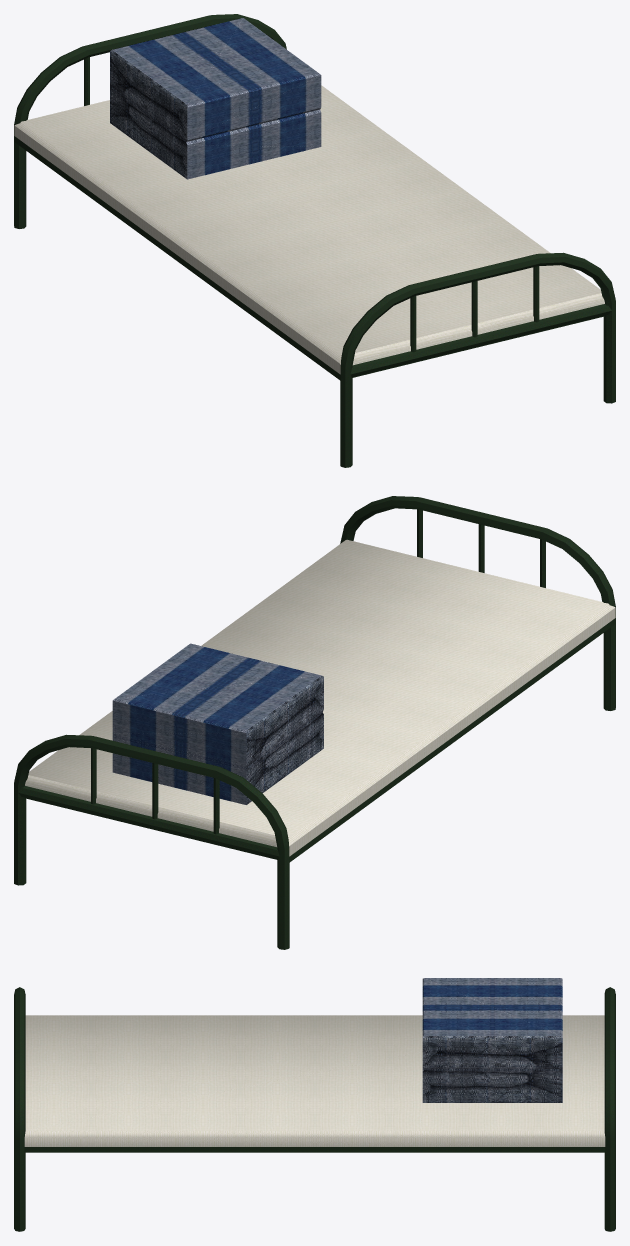
The model's file is bed_T01702.obj.
The picture shows the model from 3 angles, top to bottom: view 1: azimuth 30°, elevation 25°; view 2: azimuth 150°, elevation 25°; view 3: azimuth 270°, elevation 25°; orthographic projection. The views are drawn at different scales.
Parts seen in each view (by area): view 1: xj_001_chaung_001_c_T01702, xj_001_chaung_001_a_T01702, xj_001_chaung_001_d_T01702, xj_001_chaung_001_b_T01702; view 2: xj_001_chaung_001_c_T01702, xj_001_chaung_001_d_T01702, xj_001_chaung_001_a_T01702, xj_001_chaung_001_b_T01702; view 3: xj_001_chaung_001_c_T01702, xj_001_chaung_001_b_T01702, xj_001_chaung_001_d_T01702, xj_001_chaung_001_a_T01702.
Boxes of the visible parts, x1,y1,x2,y2 form: xj_001_chaung_001_c_T01702: (14,85,604,374); xj_001_chaung_001_a_T01702: (112,18,321,179); xj_001_chaung_001_d_T01702: (14,14,615,467); xj_001_chaung_001_b_T01702: (110,50,187,179); xj_001_chaung_001_c_T01702: (25,539,615,856); xj_001_chaung_001_d_T01702: (14,496,615,949); xj_001_chaung_001_a_T01702: (112,643,321,804); xj_001_chaung_001_b_T01702: (246,675,323,804); xj_001_chaung_001_c_T01702: (24,1015,605,1146); xj_001_chaung_001_b_T01702: (422,1036,562,1102); xj_001_chaung_001_d_T01702: (14,987,615,1231); xj_001_chaung_001_a_T01702: (422,978,562,1071).
Bounding box in the file's own units: 90.64 × 56.89 × 190.
